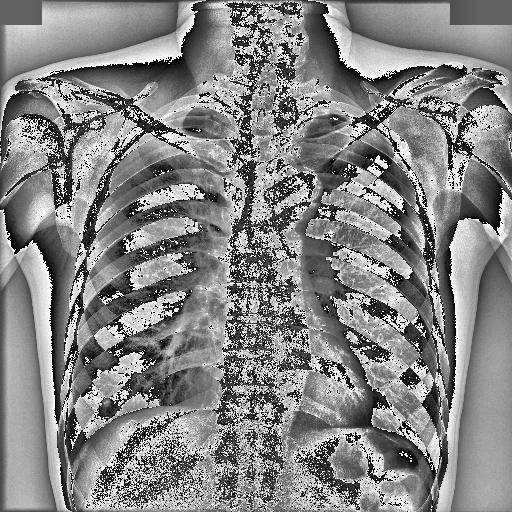0- Aortic enlargement: (259, 162, 324, 230), (273, 170, 324, 220)
11- Pleural thickening: (162, 106, 232, 120), (168, 102, 230, 116), (339, 112, 358, 126)
2- Calcification: (102, 396, 111, 408)
8- Nodule-Mass: (100, 396, 113, 408), (102, 397, 111, 407)
9- Other lesion: (100, 396, 113, 408)
